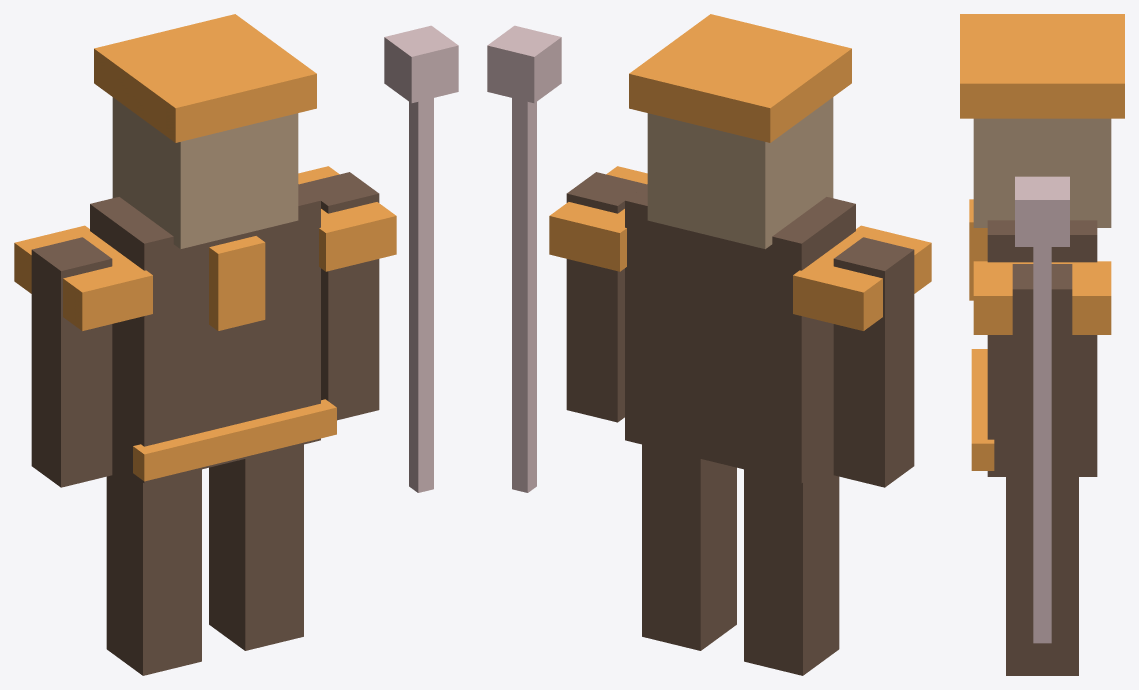
The model's file is 08_brant_dubwater_smith_from_memory.glb.
The picture shows the model from 3 angles, left to right: view 1: azimuth 30°, elevation 25°; view 2: azimuth 150°, elevation 25°; view 3: azimuth 270°, elevation 25°; orthographic projection.
Visible parts, largest first — view 1: Brant Dubwater, Smith from Memory; view 2: Brant Dubwater, Smith from Memory; view 3: Brant Dubwater, Smith from Memory.
Boxes of the visible parts, x1,y1,x2,y2 form: Brant Dubwater, Smith from Memory: (14,14,458,675); Brant Dubwater, Smith from Memory: (487,14,931,675); Brant Dubwater, Smith from Memory: (960,14,1124,675).
Size of the model in its own units: 1.01 by 1.42 by 0.3599.
